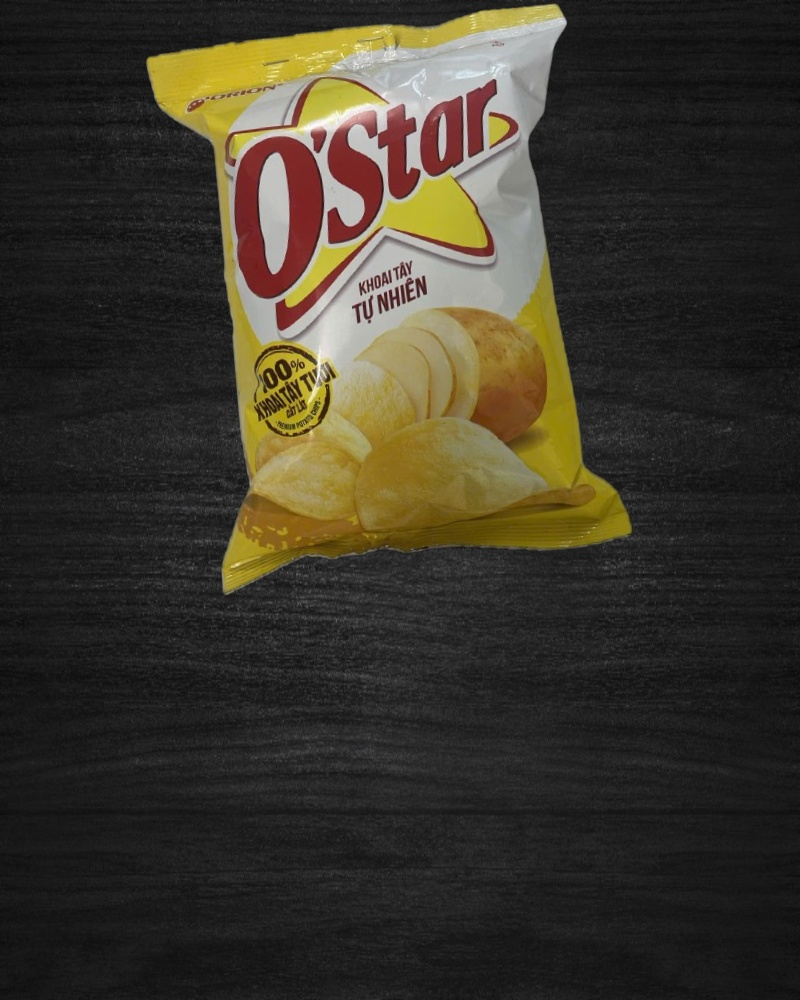O'star: (146, 1, 635, 598)
